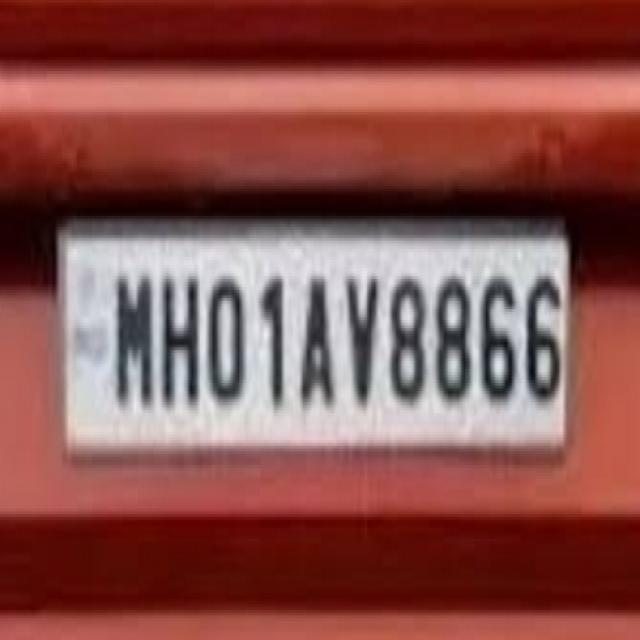0: (208, 269, 248, 416)
1: (258, 270, 290, 425)
6: (521, 263, 564, 409), (478, 264, 520, 409)
8: (386, 259, 432, 413), (434, 264, 472, 416)
A: (297, 267, 335, 419)
H: (160, 263, 203, 409)
M: (110, 264, 156, 416)
V: (342, 264, 380, 416)
